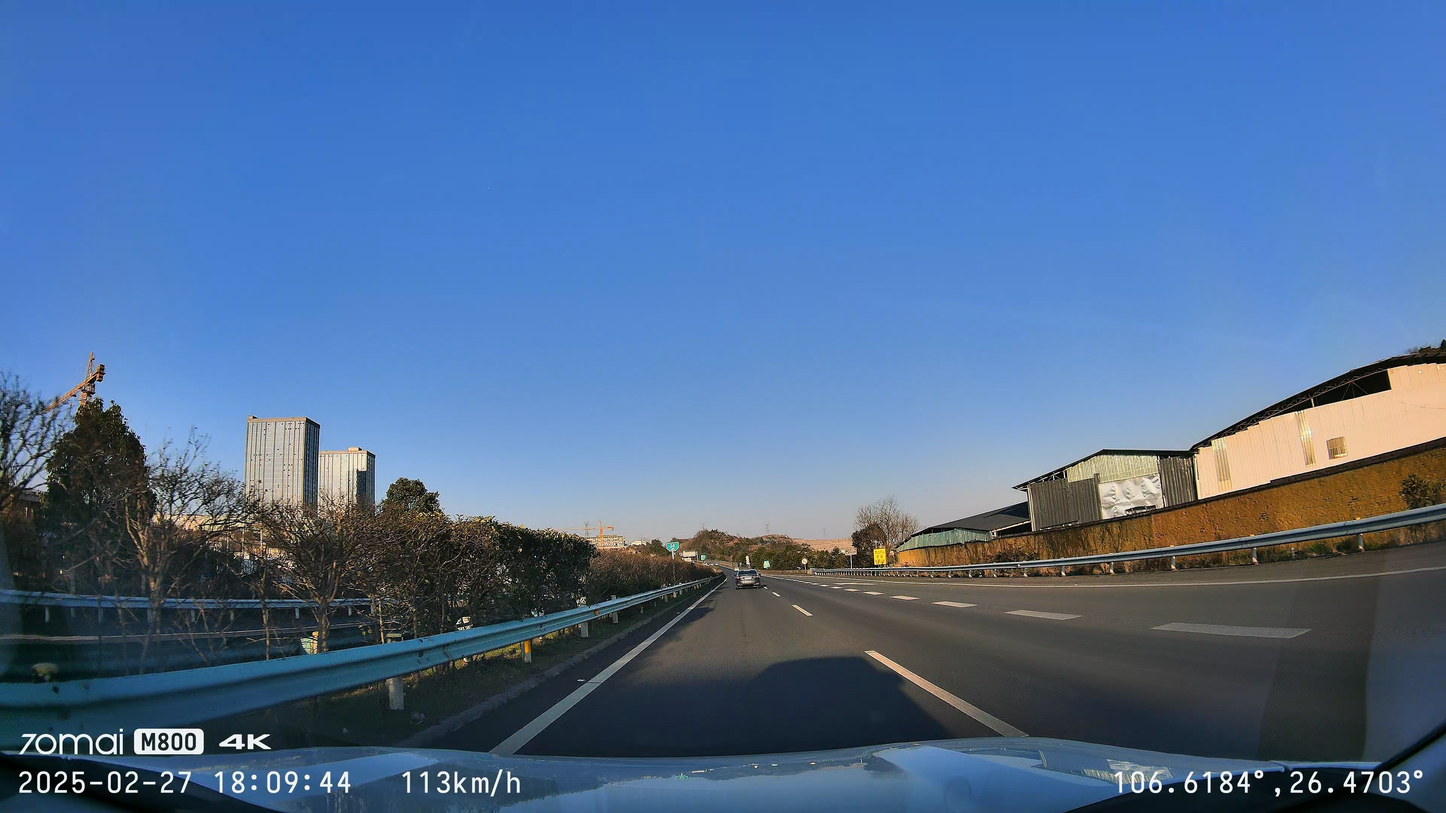lane: (487, 583, 726, 751), (864, 653, 1030, 736), (953, 570, 1438, 591), (1152, 618, 1319, 638), (1003, 603, 1085, 621), (933, 597, 980, 613), (790, 598, 814, 619), (893, 592, 918, 603)
